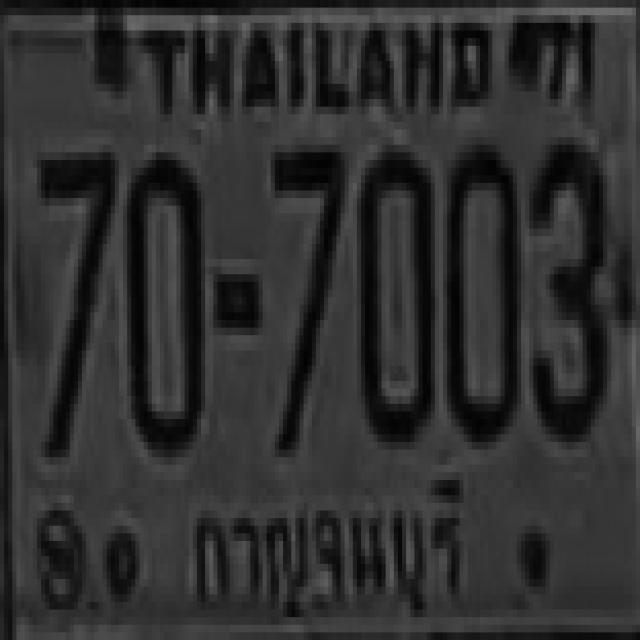0: (123, 144, 201, 450), (443, 137, 517, 434), (357, 145, 431, 434)
3: (529, 134, 603, 430)
7: (37, 144, 111, 450), (271, 141, 340, 446)
Kanchanaburi: (190, 470, 468, 620)
